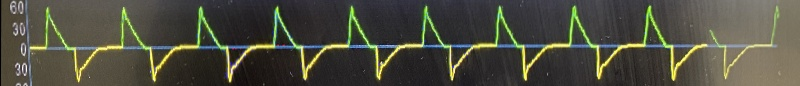normal_flow: (24, 0, 712, 85)
